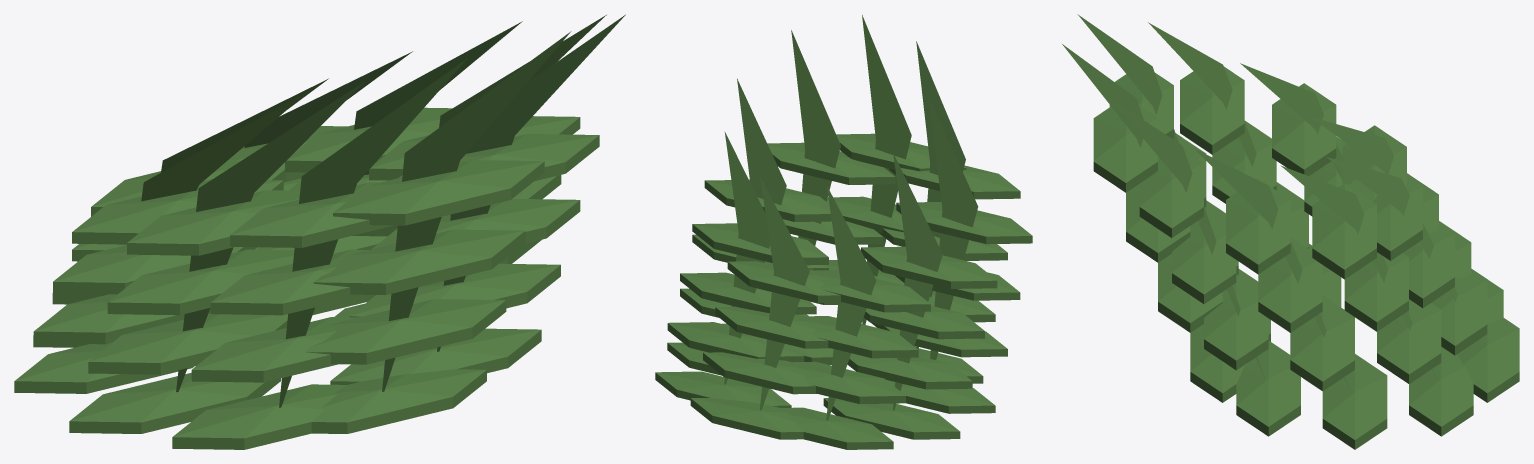
File: nature-fern.lod0.glb
The picture shows the model from 3 angles, left to right: view 1: azimuth 30°, elevation 25°; view 2: azimuth 150°, elevation 25°; view 3: azimuth 270°, elevation 25°; orthographic projection. The views are drawn at different scales.
Visible parts, largest first — view 1: nature-fern__fronds; view 2: nature-fern__fronds; view 3: nature-fern__fronds.
Part boxes in pixels (x1,y1,x2,y2): nature-fern__fronds: (14,14,625,449); nature-fern__fronds: (655,15,1032,449); nature-fern__fronds: (1062,14,1519,449).
Bounding box in the file's own units: 0.866 × 0.7389 × 0.8524.
